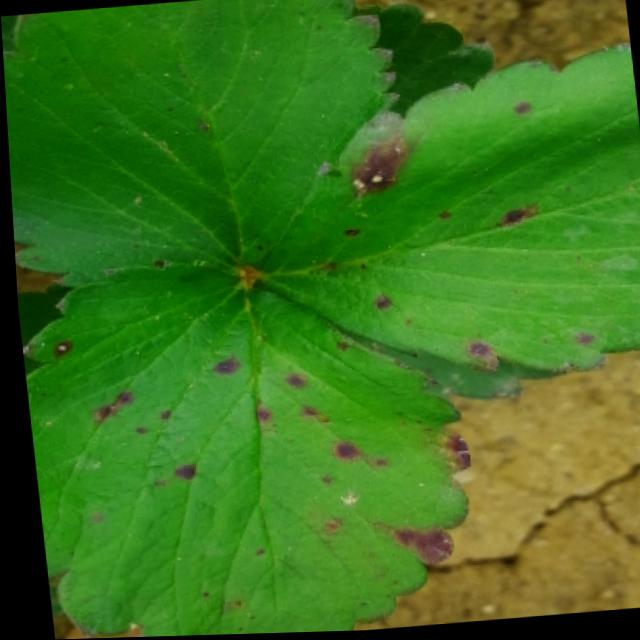Leaf Spot: (17, 264, 467, 639), (246, 43, 640, 377), (2, 0, 399, 288)
